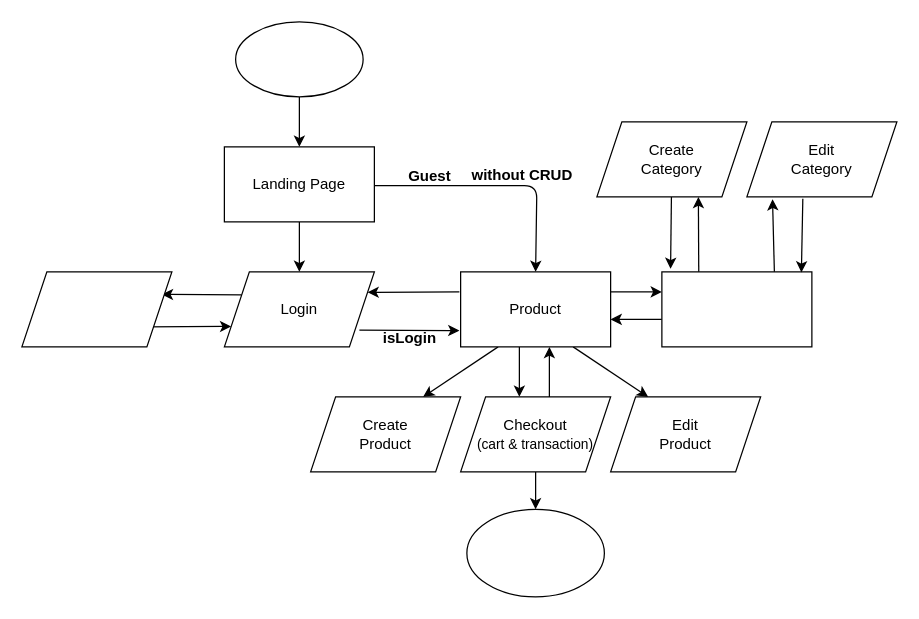
This 919x619 diagram has some shape labels left out. The shapes that lost their labels are listed below. From the top down, each one's box as (x1, y1, x2, y2) in pixels, then its label:
(234, 21, 363, 97): Start
(21, 271, 172, 347): Register
(661, 271, 812, 347): Category
(466, 508, 604, 597): End
